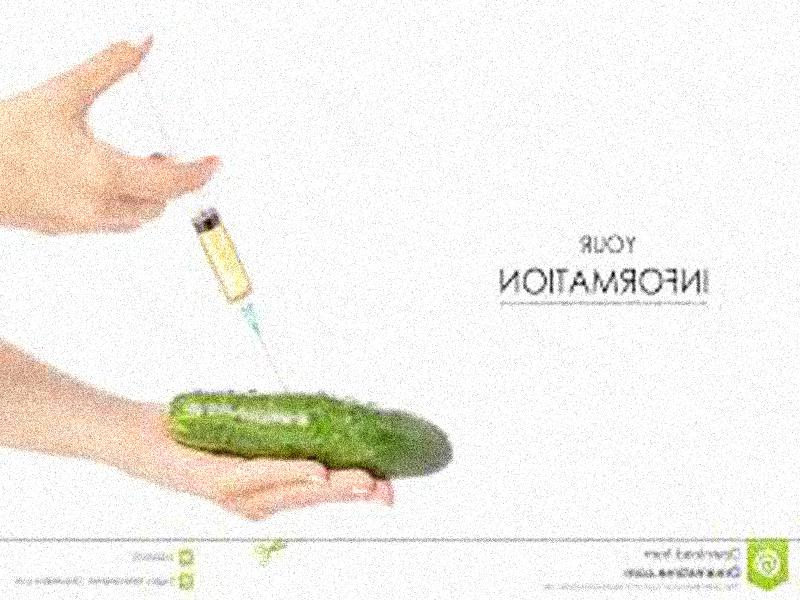Cucumber: (167, 392, 452, 477)
